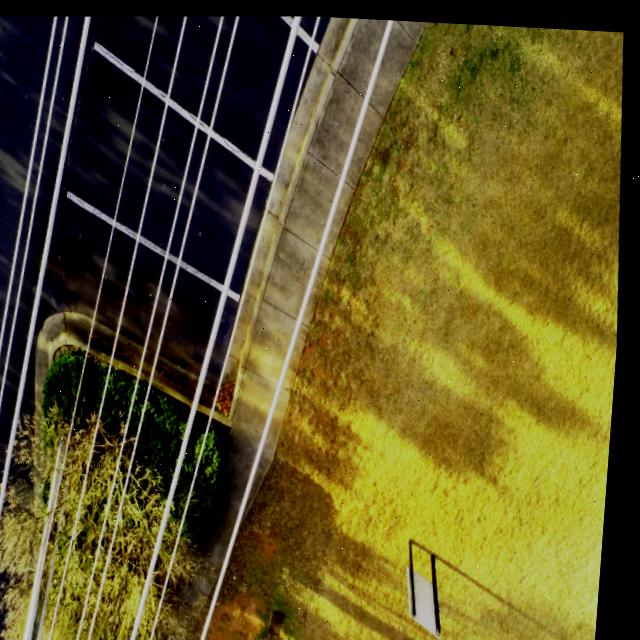wires: (0, 13, 424, 640)
